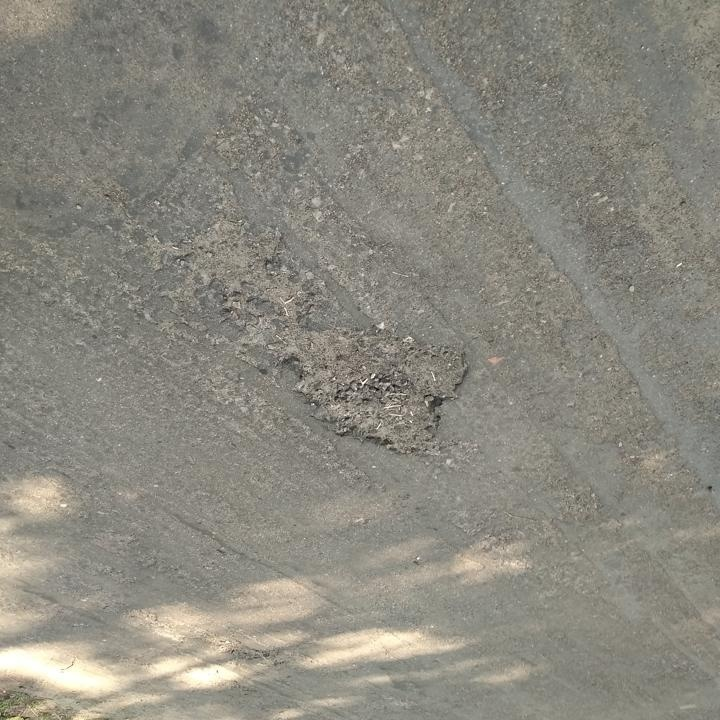pothole: (278, 312, 470, 457), (165, 220, 321, 318), (200, 635, 275, 664)
